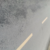others: (17, 19, 48, 49)
